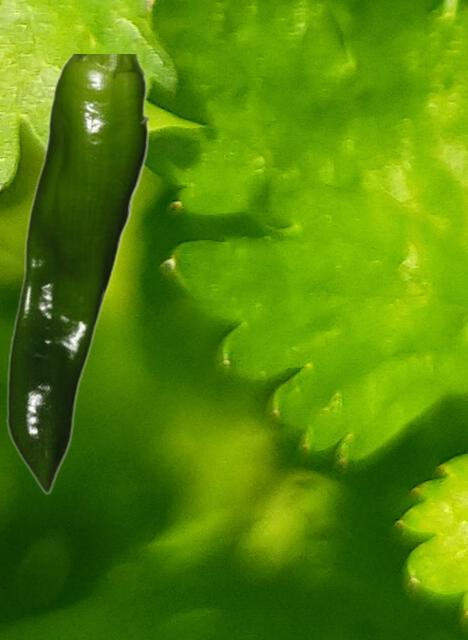green_chili: (5, 54, 147, 493)
